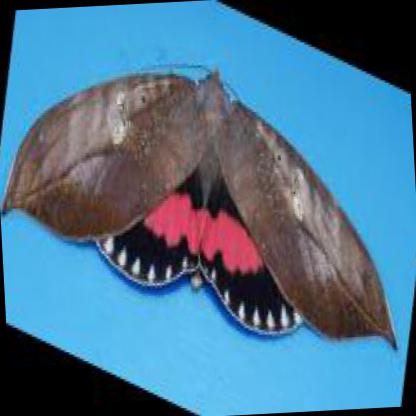fruit sucking moth: (4, 68, 398, 353)
